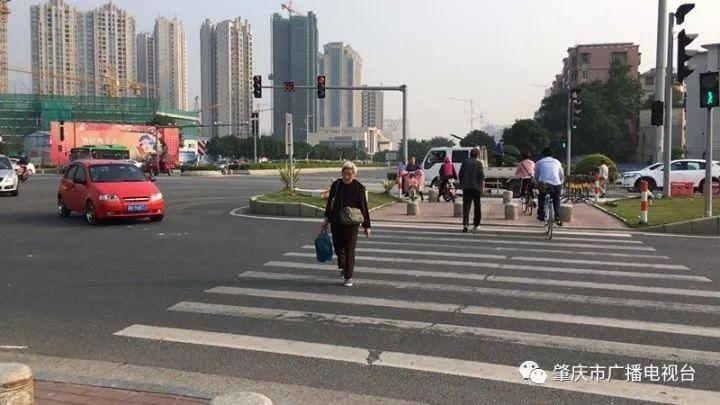bicycle: (538, 190, 564, 240), (519, 183, 538, 217)
bus: (68, 144, 130, 165)
car: (55, 160, 166, 225), (617, 160, 719, 195), (0, 155, 20, 196), (15, 158, 34, 183)
person: (318, 161, 372, 288), (532, 150, 567, 224), (512, 149, 537, 203), (398, 154, 426, 201), (592, 160, 610, 198)
traffic light: (677, 31, 696, 82), (700, 71, 720, 108), (571, 90, 583, 132), (316, 74, 326, 99), (252, 75, 262, 98), (282, 80, 296, 92)
truck: (423, 146, 492, 201)
